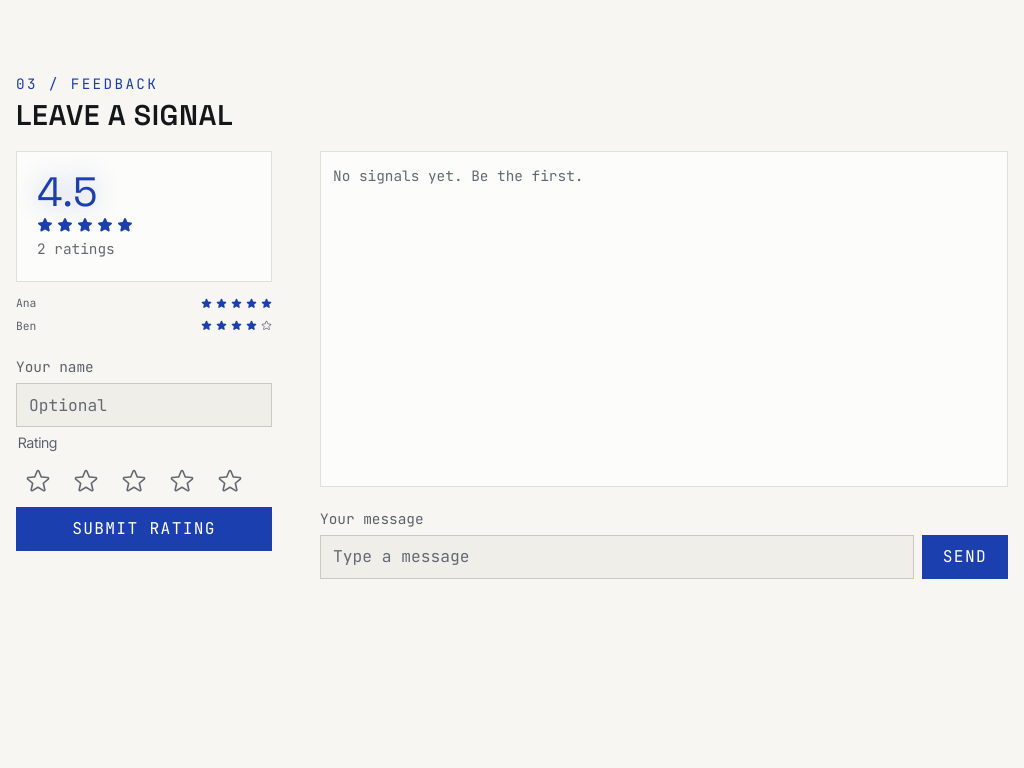
Test: CyberFeedback › keeps an optimistic message after a slow load resolves later
In the field labelled "Your message": (617, 557) [320,535,914,579], type "Nice portfolio"
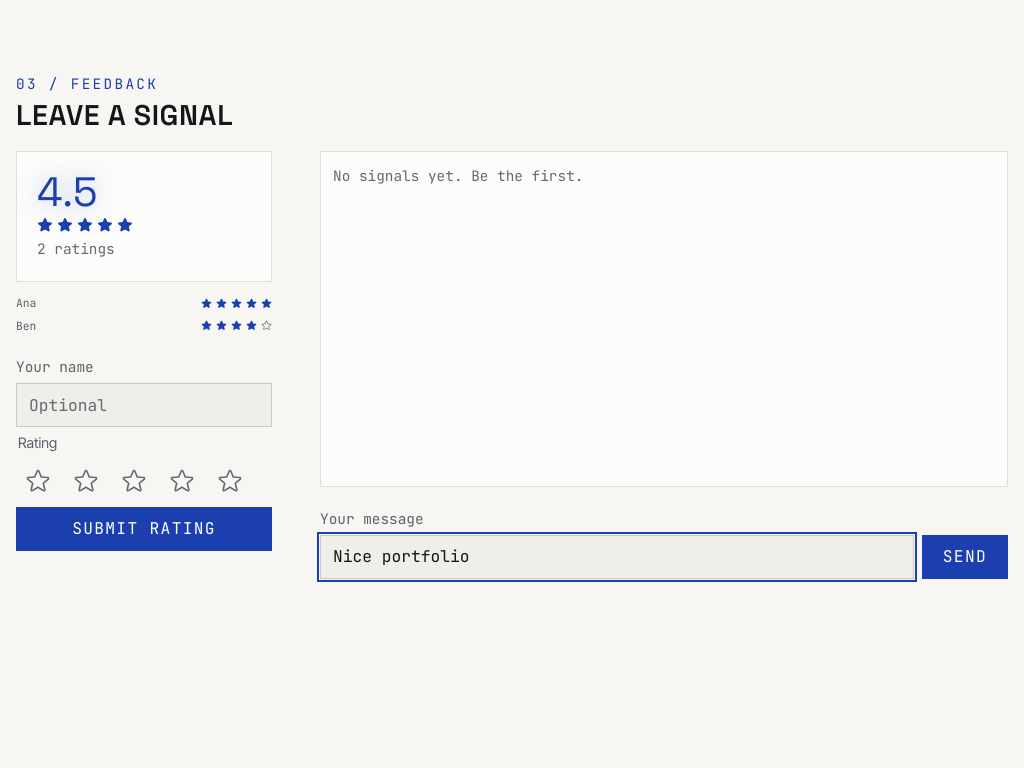
Click the button "Send": click(965, 557) [922,535,1008,579]
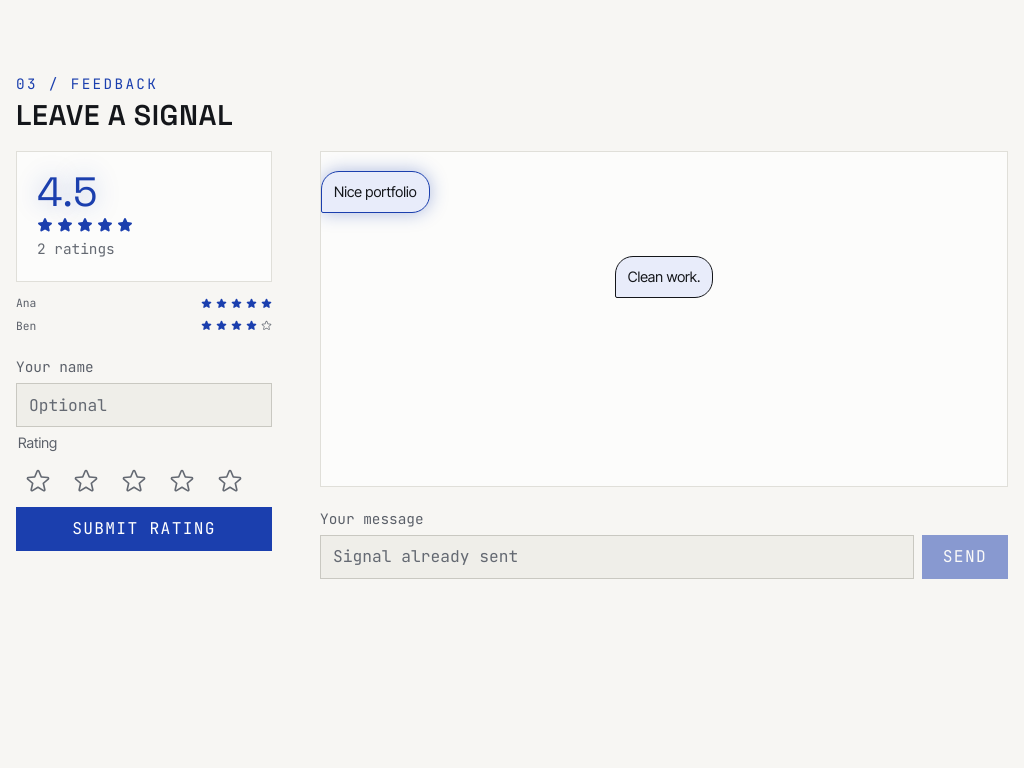
Result: the list item "Clean work." is shown at [615,256,713,298]
Result: the list item "Nice portfolio" is shown at [321,172,430,213]
